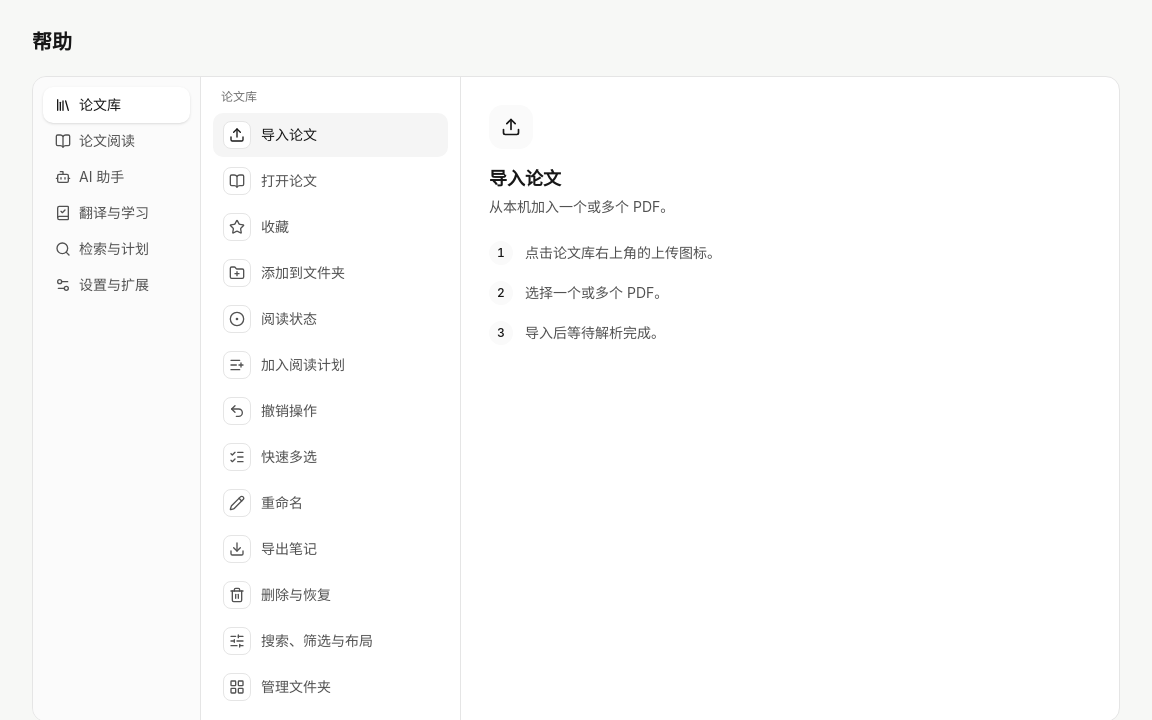
HelpPage › switches between complete feature categories
The width and height of the screenshot is (1152, 720).
Click the button "翻译与学习".
click(116, 213)  # box x1=43 y1=195 x2=190 y2=231
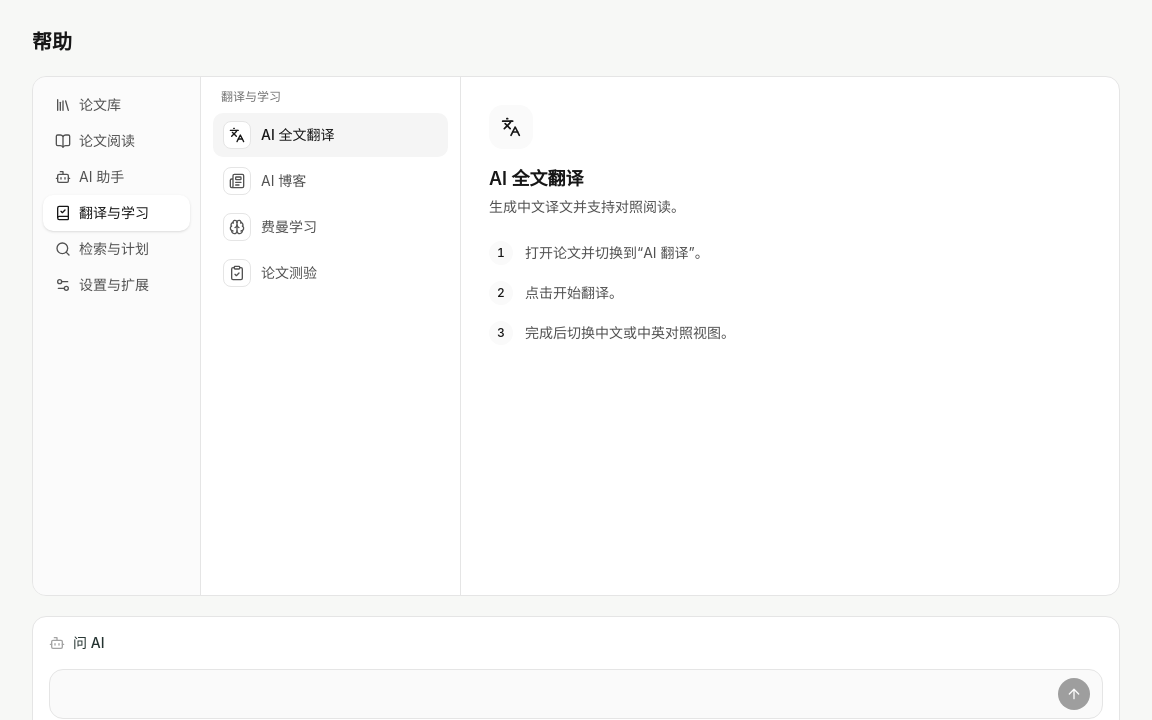
Expected: the button "AI 全文翻译" is shown, x1=213 y1=113 x2=448 y2=157
Expected: the button "AI 博客" is shown, x1=213 y1=159 x2=448 y2=203
Expected: the button "费曼学习" is shown, x1=213 y1=205 x2=448 y2=249
